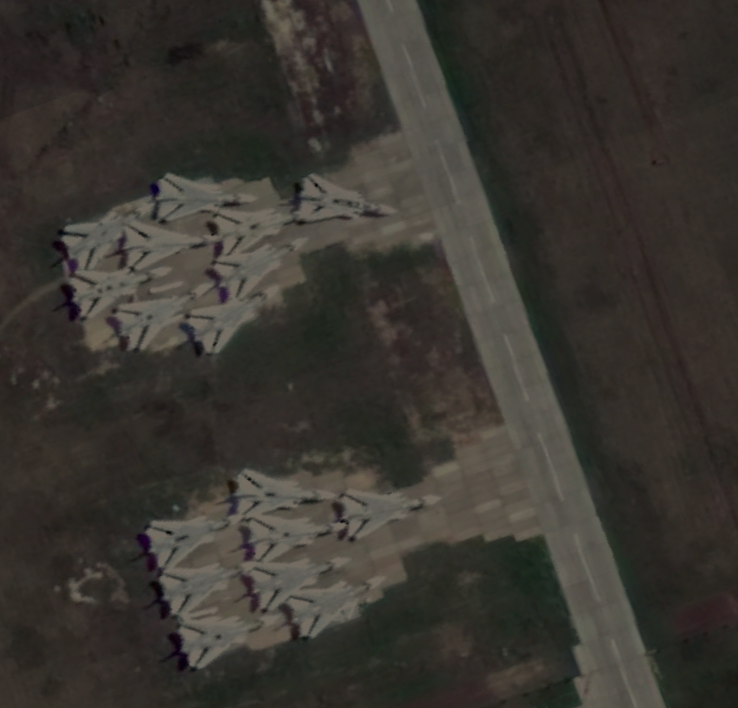A20: (105, 281, 204, 355), (188, 285, 289, 357), (243, 550, 353, 615), (173, 607, 282, 671), (61, 198, 167, 263), (283, 574, 389, 639), (60, 263, 174, 322), (152, 166, 264, 226), (207, 234, 319, 294), (119, 213, 231, 273), (334, 487, 446, 543), (155, 556, 257, 617), (297, 170, 399, 229), (232, 468, 338, 524), (145, 512, 242, 569), (239, 513, 346, 561), (207, 206, 303, 257)
